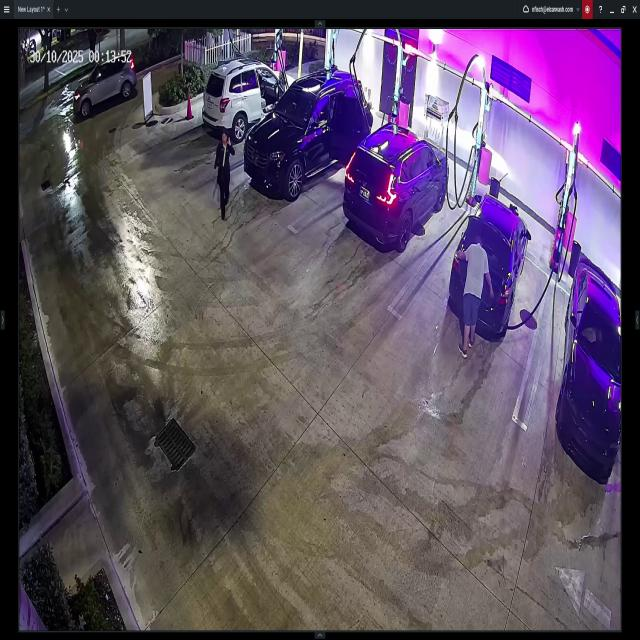Car: (242, 72, 372, 198), (558, 256, 622, 478), (343, 120, 449, 245), (450, 191, 526, 343), (200, 53, 296, 137), (73, 60, 135, 120)
